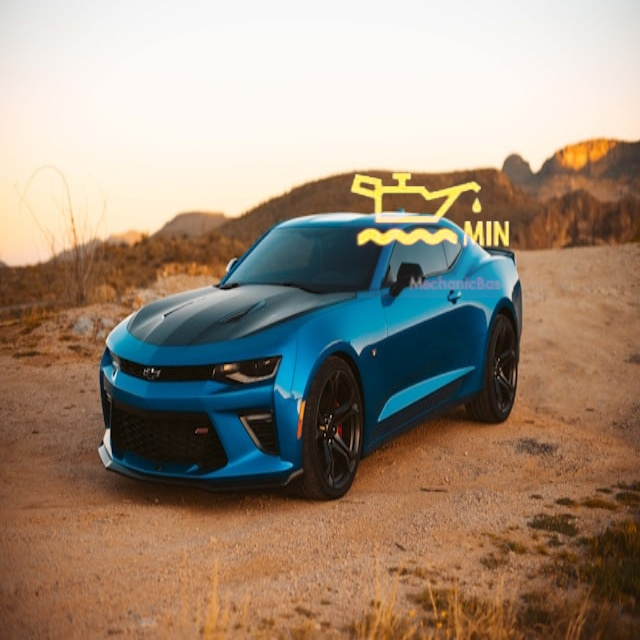symbol: (341, 123, 516, 298)
